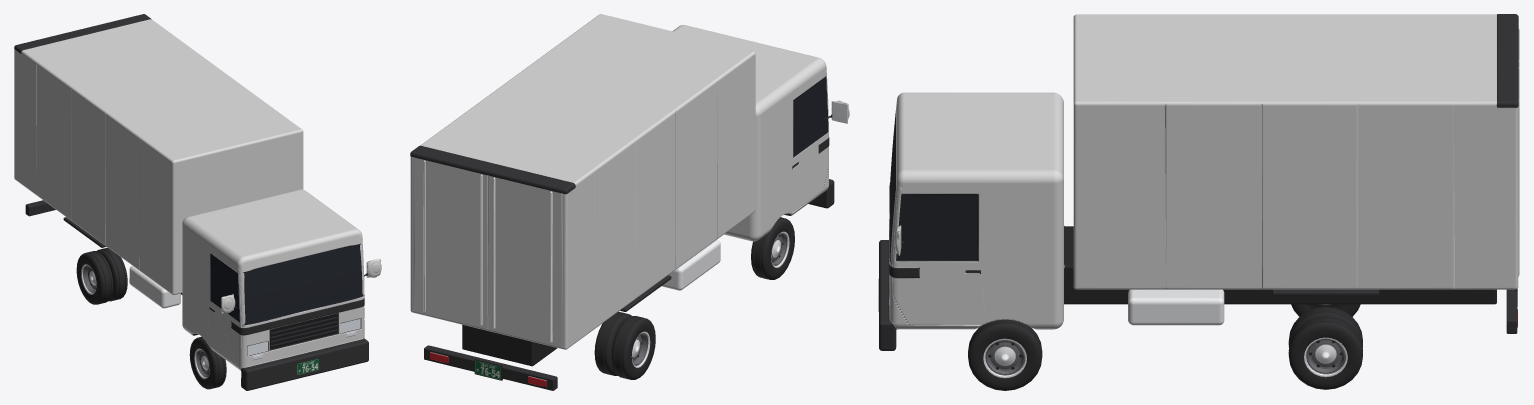
File: traffic_truck.fbx
3 renders of one model, left to right at view 1: azimuth 30°, elevation 25°; view 2: azimuth 150°, elevation 25°; view 3: azimuth 270°, elevation 25°, orthographic. The views are drawn at different scales.
Visible parts, largest first — view 1: Body, Wheel_RR, Wheel_FR; view 2: Body, Wheel_RR, Wheel_FR; view 3: Body, Wheel_RL, Wheel_FL.
Boxes of the visible parts, box(x1,y1,x2,y2) form: Body: box(14, 14, 381, 390); Wheel_RR: box(76, 247, 127, 304); Wheel_FR: box(189, 336, 226, 389); Body: box(410, 14, 849, 390); Wheel_RR: box(594, 311, 655, 379); Wheel_FR: box(751, 217, 794, 279); Body: box(878, 14, 1519, 350); Wheel_RL: box(1288, 306, 1362, 389); Wheel_FL: box(968, 319, 1042, 390).
Bounding box in the file's own units: 2.42 × 3.02 × 6.
Materials: 11 (1 with a texture image).
